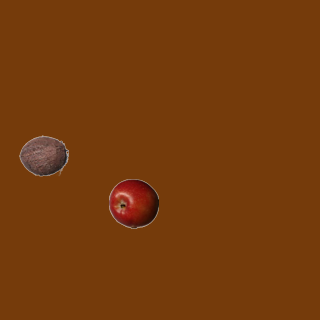Apple Braeburn: (108, 178, 158, 228)
Cocos: (18, 130, 68, 180)
